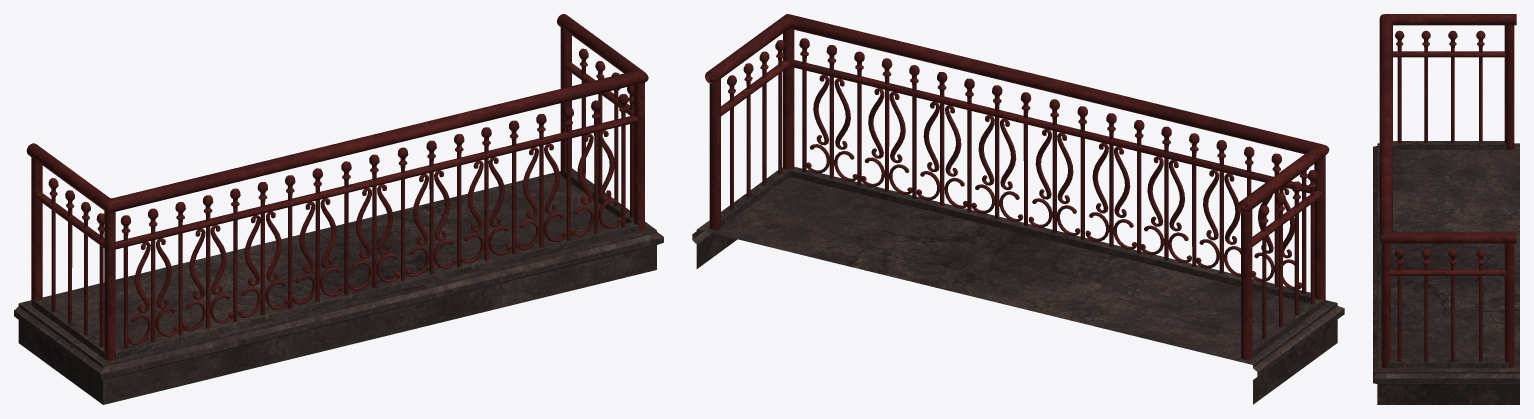
File: SK3 DECOR.fbx
The picture shows the model from 3 angles, left to right: view 1: azimuth 30°, elevation 25°; view 2: azimuth 150°, elevation 25°; view 3: azimuth 270°, elevation 25°; orthographic projection. The views are drawn at different scales.
Parts seen in each view (by area): view 1: SK3 DECOR; view 2: SK3 DECOR; view 3: SK3 DECOR.
Boxes of the visible parts, box(x1,y1,x2,y2) form: SK3 DECOR: box(14, 14, 663, 404); SK3 DECOR: box(692, 14, 1344, 404); SK3 DECOR: box(1373, 14, 1519, 404).
Size of the model in its own units: 372 by 125 by 99.69.
